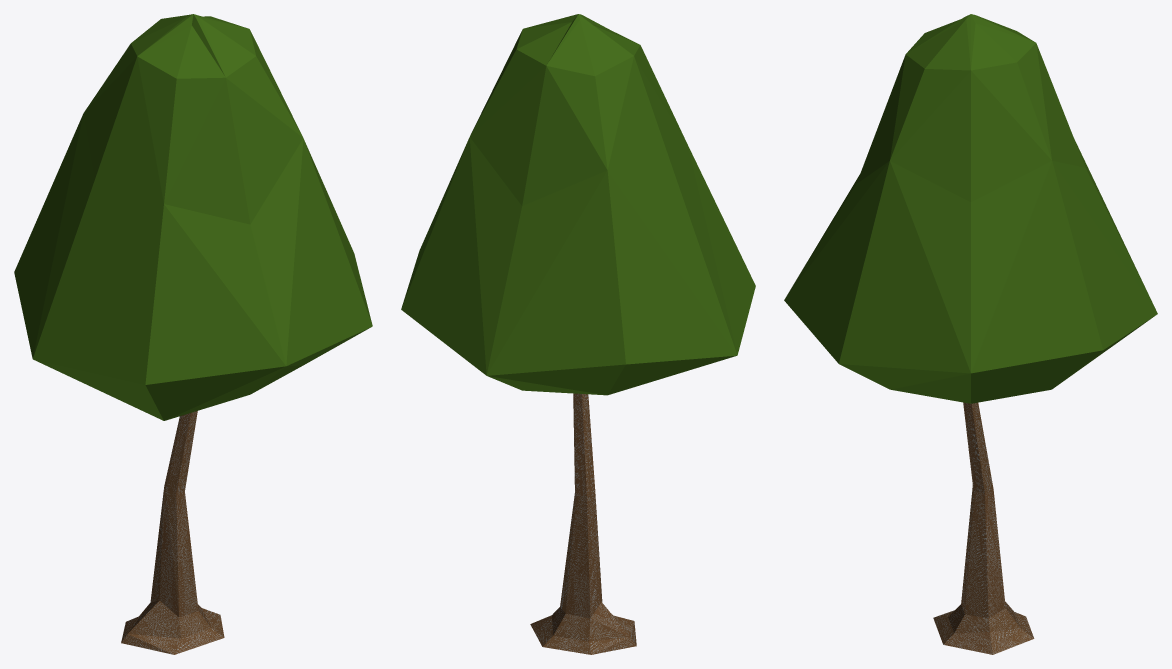
The model's file is Tree.fbx.
3 views of the same model, side by side, from view 1: azimuth 30°, elevation 25°; view 2: azimuth 150°, elevation 25°; view 3: azimuth 270°, elevation 25° (orthographic).
Visible parts, largest first — view 1: Group2, Tree1; view 2: Group2, Tree1; view 3: Group2, Tree1.
Part boxes in pixels (x1,y1,x2,y2): Group2: [14, 14, 372, 420]; Tree1: [121, 411, 224, 654]; Group2: [401, 14, 755, 395]; Tree1: [530, 393, 636, 654]; Group2: [784, 14, 1157, 403]; Tree1: [933, 402, 1034, 654].
Size of the model in its own units: 2220 by 4077 by 2220.
